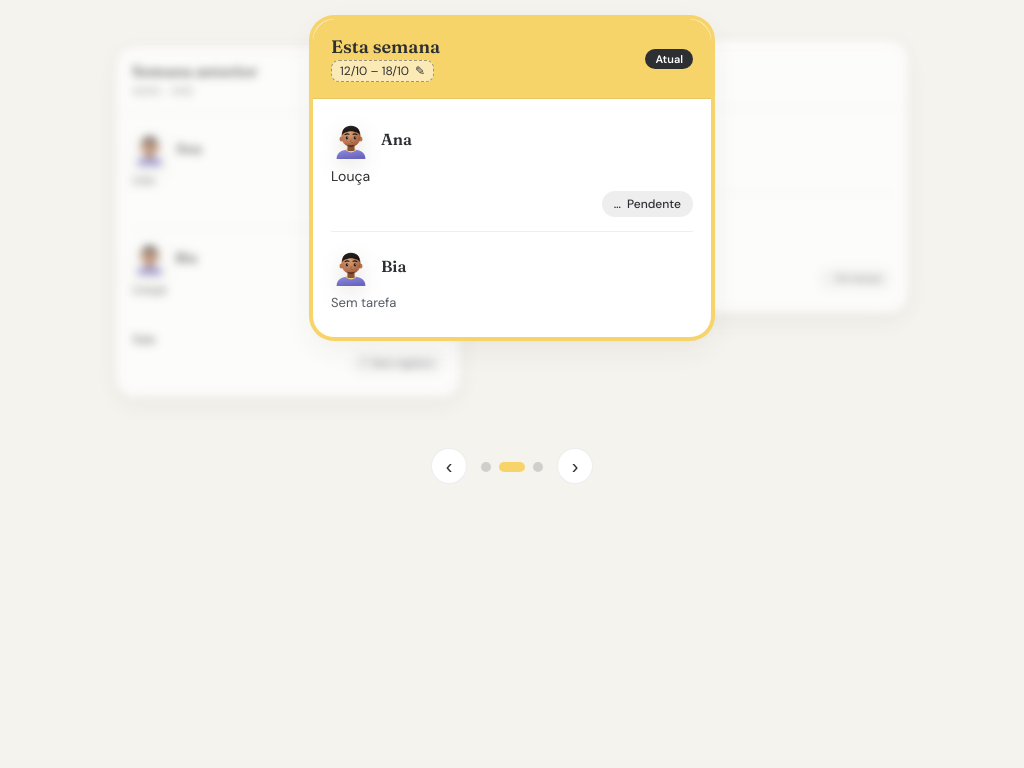
Test: editar o prazo pela data da semana › cancelar fecha o popup sem salvar
Click the button named "Editar o prazo da esta semana": (383, 71) [331, 60, 434, 82]
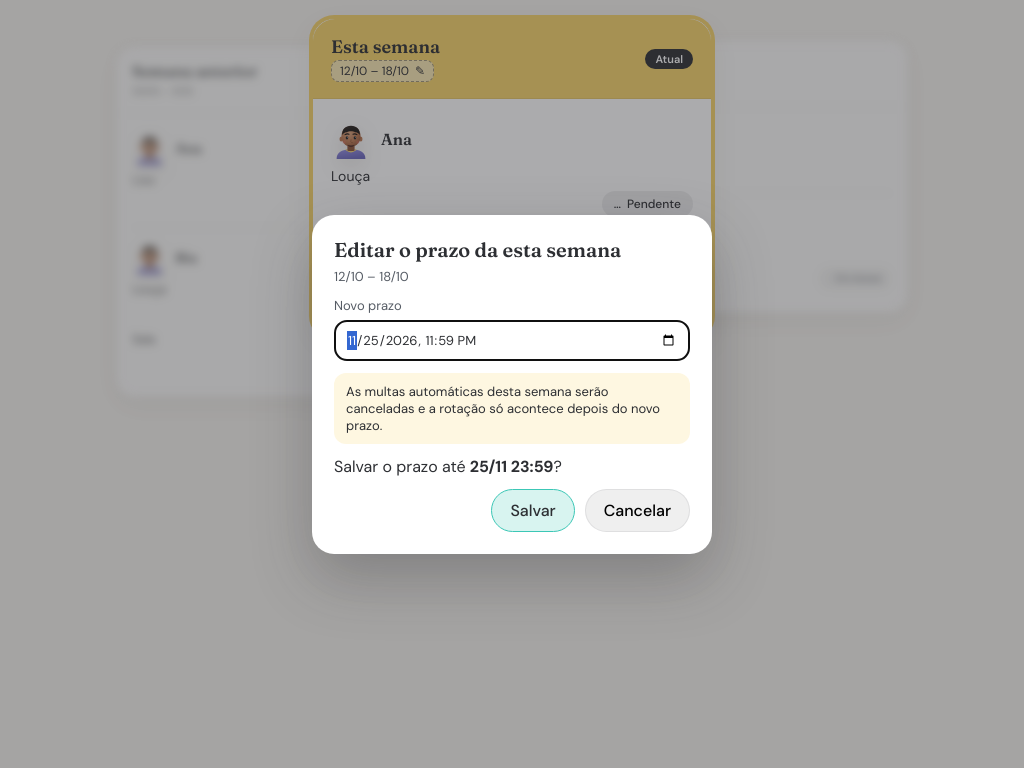
Click the button "Cancelar": (637, 510) [585, 488, 690, 532]
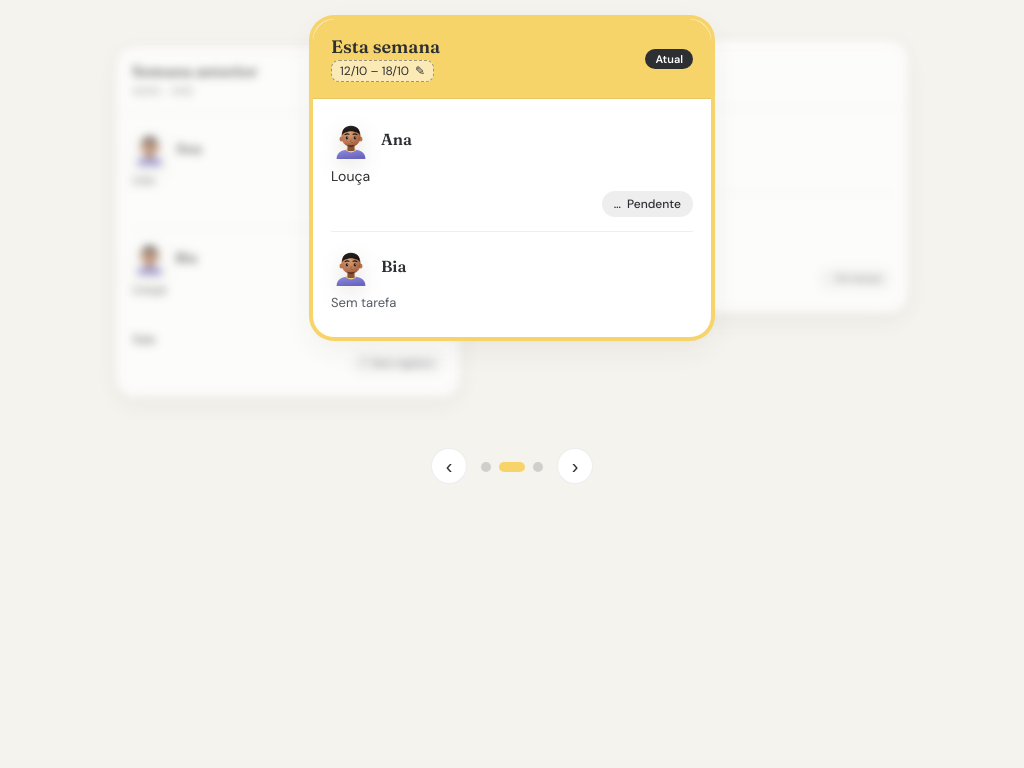
Check: the dialog is gone
